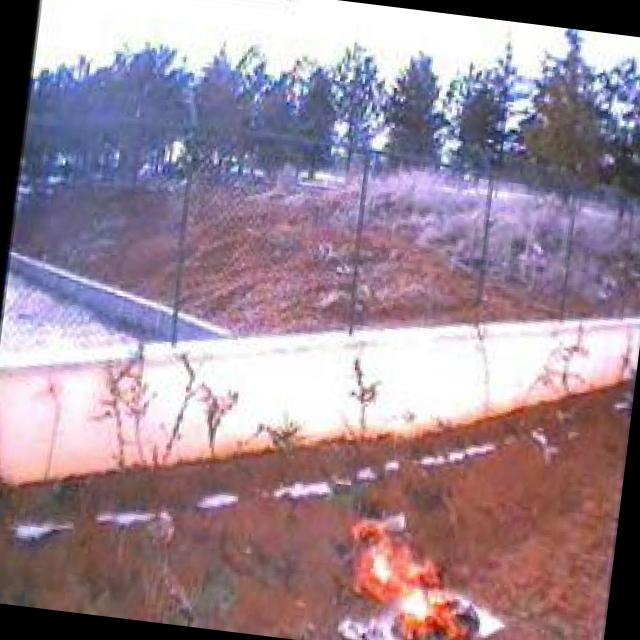Fire: (334, 513, 508, 640)
